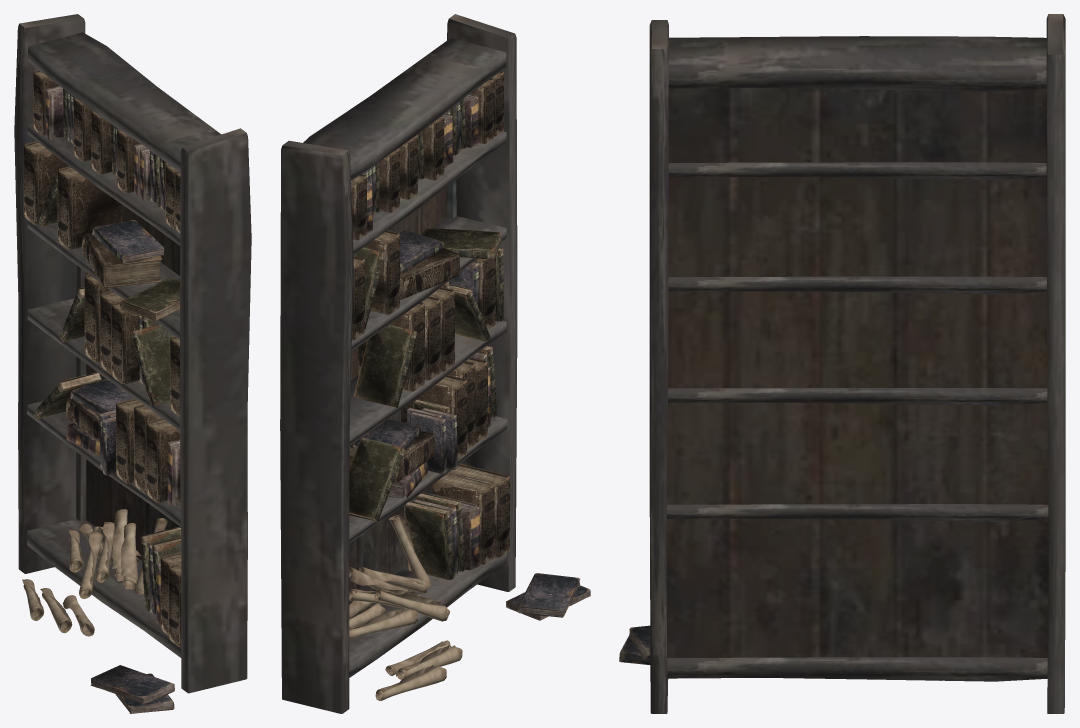
File: AEG023_850out-transformed.glb
The picture shows the model from 3 angles, left to right: view 1: azimuth 30°, elevation 25°; view 2: azimuth 150°, elevation 25°; view 3: azimuth 270°, elevation 25°; orthographic projection. The views are drawn at different scales.
Parts seen in each view (by area): view 1: default; view 2: default; view 3: default.
Part boxes in pixels (x1=…): default: x1=14, y1=14, x2=251, y2=713; default: x1=280, y1=14, x2=590, y2=713; default: x1=619, y1=14, x2=1065, y2=713.
Bounding box in the file's own units: 0.8191 × 3.16 × 1.92.
Materials: 4 (4 with a texture image).
